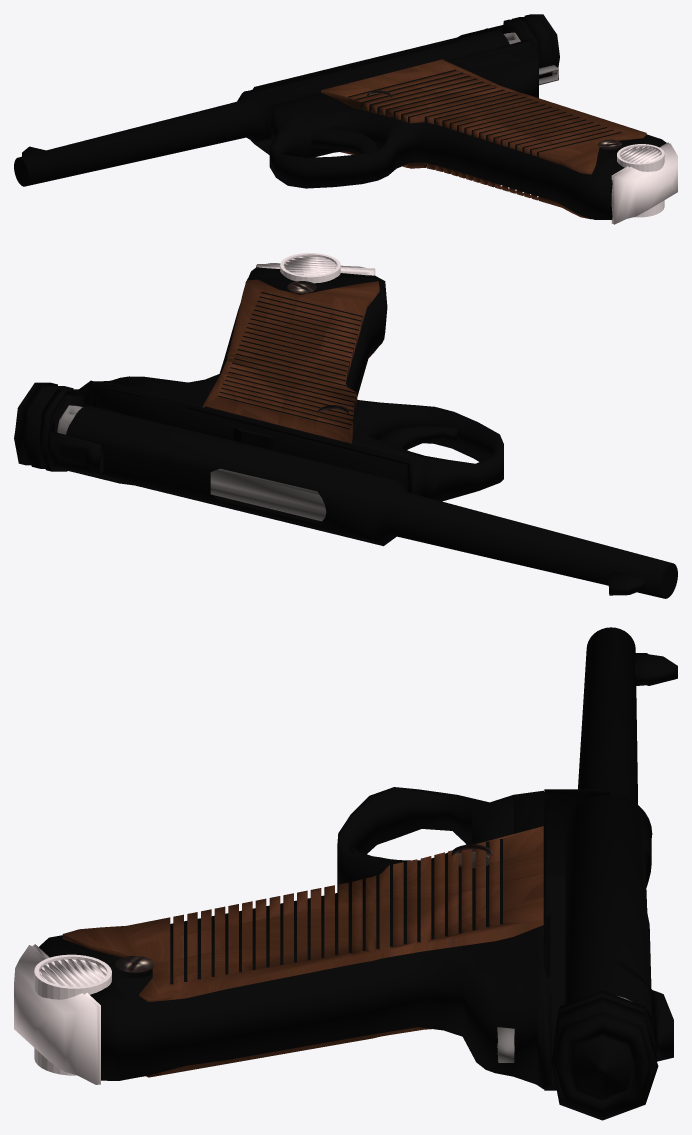
File: nambu14.gltf
3 renders of one model, top to bottom at view 1: azimuth 30°, elevation 25°; view 2: azimuth 150°, elevation 25°; view 3: azimuth 270°, elevation 25°, orthographic. The views are drawn at different scales.
Visible parts, largest first — view 1: Mid, Chargeur, Culasse, Gachette; view 2: Mid, Culasse, Chargeur, Gachette; view 3: Mid, Culasse, Chargeur.
Boxes of the visible parts, box(x1,y1,x2,y2) form: Mid: box(14, 23, 666, 219); Chargeur: box(611, 142, 677, 224); Culasse: box(503, 14, 559, 78); Gachette: box(311, 126, 376, 154); Mid: box(50, 267, 677, 598); Culasse: box(14, 382, 326, 521); Chargeur: box(233, 253, 375, 451); Gachette: box(379, 424, 457, 449); Mid: box(39, 627, 677, 1090); Culasse: box(551, 991, 658, 1120); Chargeur: box(14, 892, 550, 1084).
Size of the model in its own units: 0.6748 by 0.0812 by 0.4496.
7 materials, 4 textured.
